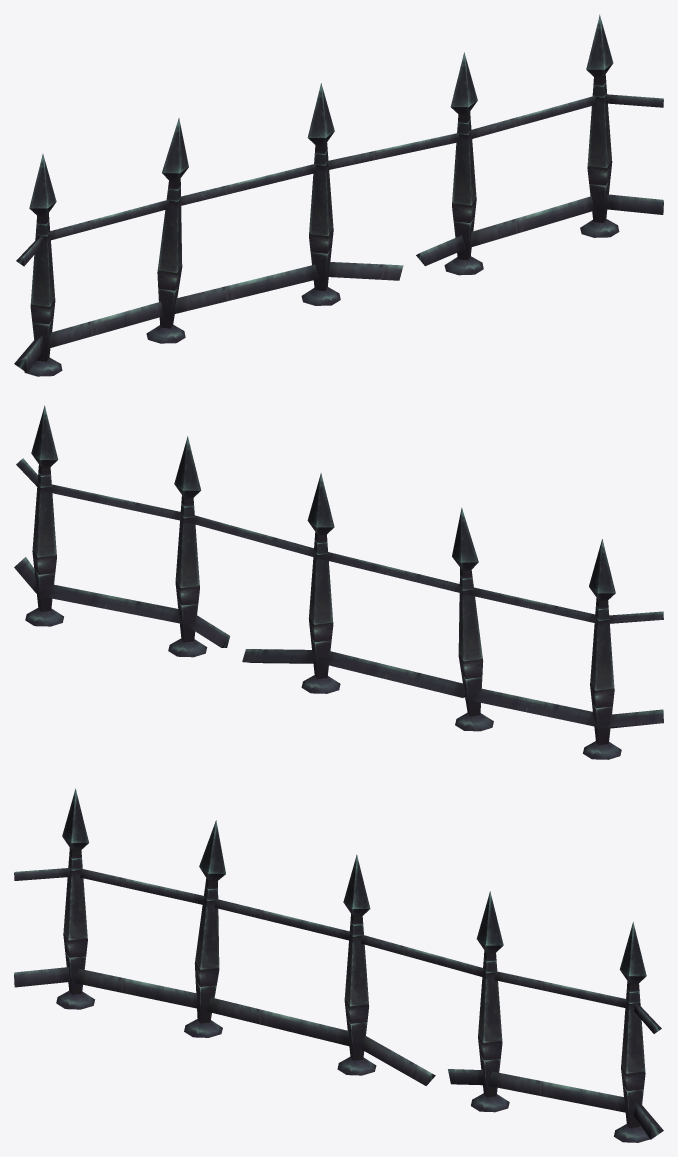
The model's file is common_underground_langan.FBX.
The picture shows the model from 3 angles, top to bottom: view 1: azimuth 30°, elevation 25°; view 2: azimuth 150°, elevation 25°; view 3: azimuth 330°, elevation 25°; orthographic projection.
Visible parts, largest first — view 1: common_underground_langan; view 2: common_underground_langan; view 3: common_underground_langan.
Part boxes in pixels (left/top/right/bottom): common_underground_langan: left=14, top=14, right=663, bottom=376; common_underground_langan: left=14, top=405, right=663, bottom=759; common_underground_langan: left=14, top=788, right=663, bottom=1142.
Bounding box in the file's own units: 6.67 × 2.1 × 0.6434.
